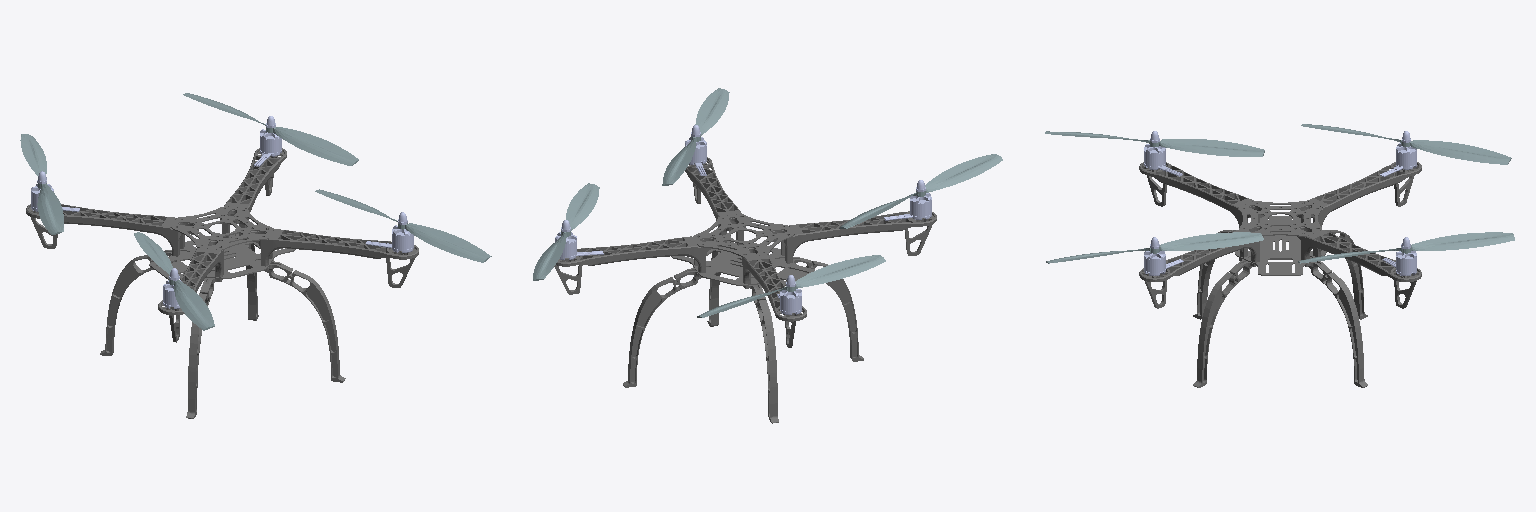
robot.urdf — drone:
<?xml version="1.0" encoding="utf-8"?>
<!-- This URDF was automatically created by SolidWorks to URDF Exporter! Originally created by [author] ([email redacted]) 
     Commit Version: 1.6.0-4-g7f85cfe  Build Version: 1.6.7995.38578
     For more information, please see http://wiki.ros.org/sw_urdf_exporter -->
<robot
  name="drone">
  <link
    name="base_link">
    <inertial>
      <origin
        xyz="-6.3212E-08 1.0539E-07 -0.026926"
        rpy="0 0 0" />
      <mass
        value="0.22736" />
      <inertia
        ixx="0.00051734"
        ixy="-1.9474E-10"
        ixz="-1.0163E-11"
        iyy="0.00054338"
        iyz="1.6895E-11"
        izz="0.00081393" />
    </inertial>
    <visual>
      <origin
        xyz="0 0 0"
        rpy="0 0 0" />
      <geometry>
        <mesh
          filename="package://drone/meshes/base_link.STL" />
      </geometry>
      <material
        name="">
        <color
          rgba="0.50196 0.50196 0.50196 1" />
      </material>
    </visual>
    <collision>
      <origin
        xyz="0 0 0"
        rpy="0 0 0" />
      <geometry>
        <mesh
          filename="package://drone/meshes/base_link.STL" />
      </geometry>
    </collision>
  </link>
  <link
    name="link_motor_front_right">
    <inertial>
      <origin
        xyz="0.0010075 -3.9076E-09 0.015546"
        rpy="0 0 0" />
      <mass
        value="0.13627" />
      <inertia
        ixx="1.329E-05"
        ixy="-5.3887E-14"
        ixz="-9.9406E-08"
        iyy="1.3437E-05"
        iyz="3.8342E-12"
        izz="1.168E-05" />
    </inertial>
    <visual>
      <origin
        xyz="0 0 0"
        rpy="0 0 0" />
      <geometry>
        <mesh
          filename="package://drone/meshes/link_motor_front_right.STL" />
      </geometry>
      <material
        name="">
        <color
          rgba="0.79216 0.81961 0.93333 1" />
      </material>
    </visual>
    <collision>
      <origin
        xyz="0 0 0"
        rpy="0 0 0" />
      <geometry>
        <mesh
          filename="package://drone/meshes/link_motor_front_right.STL" />
      </geometry>
    </collision>
  </link>
  <joint
    name="joint_motor_front_right"
    type="fixed">
    <origin
      xyz="0.16299 0.16299 0.00037705"
      rpy="0 0 -2.4843" />
    <parent
      link="base_link" />
    <child
      link="link_motor_front_right" />
  </joint>
  <link
    name="link_rotor_front_right">
    <inertial>
      <origin
        xyz="4.81133938246003E-10 7.6710804375324E-11 0.00428252145554474"
        rpy="0 0 0" />
      <mass
        value="0.0792353968915999" />
      <inertia
        ixx="2.5935724876401E-06"
        ixy="1.20862914748296E-05"
        ixz="-9.09337907217878E-14"
        iyy="0.000567464564116891"
        iyz="-1.39488669935456E-14"
        izz="0.000569676063472002" />
    </inertial>
    <visual>
      <origin
        xyz="0 0 0"
        rpy="0 0 0" />
      <geometry>
        <mesh
          filename="package://drone/meshes/link_rotor_front_right.STL" />
      </geometry>
      <material
        name="">
        <color
          rgba="0.592156862745098 0.666666666666667 0.682352941176471 1" />
      </material>
    </visual>
    <collision>
      <origin
        xyz="0 0 0"
        rpy="0 0 0" />
      <geometry>
        <mesh
          filename="package://drone/meshes/link_rotor_front_right.STL" />
      </geometry>
    </collision>
  </link>
  <joint
    name="joint_rotor_front_right"
    type="continuous">
    <origin
      xyz="0 0 0.029573"
      rpy="0 0 1.1957" />
    <parent
      link="link_motor_front_right" />
    <child
      link="link_rotor_front_right" />
    <axis
      xyz="0 0 1" />
  </joint>
  <link
    name="link_motor_front_left">
    <inertial>
      <origin
        xyz="0.0010075 -3.9076E-09 0.015546"
        rpy="0 0 0" />
      <mass
        value="0.13627" />
      <inertia
        ixx="1.329E-05"
        ixy="-5.3887E-14"
        ixz="-9.9406E-08"
        iyy="1.3437E-05"
        iyz="3.8342E-12"
        izz="1.168E-05" />
    </inertial>
    <visual>
      <origin
        xyz="0 0 0"
        rpy="0 0 0" />
      <geometry>
        <mesh
          filename="package://drone/meshes/link_motor_front_left.STL" />
      </geometry>
      <material
        name="">
        <color
          rgba="0.79216 0.81961 0.93333 1" />
      </material>
    </visual>
    <collision>
      <origin
        xyz="0 0 0"
        rpy="0 0 0" />
      <geometry>
        <mesh
          filename="package://drone/meshes/link_motor_front_left.STL" />
      </geometry>
    </collision>
  </link>
  <joint
    name="joint_motor_front_left"
    type="fixed">
    <origin
      xyz="-0.16299 0.16299 0.00037705"
      rpy="0 0 -0.74053" />
    <parent
      link="base_link" />
    <child
      link="link_motor_front_left" />
  </joint>
  <link
    name="link_rotor_front_left">
    <inertial>
      <origin
        xyz="4.81135152552437E-10 7.67108876420508E-11 0.00428252430867754"
        rpy="0 0 0" />
      <mass
        value="0.0792351821581544" />
      <inertia
        ixx="2.59357248764002E-06"
        ixy="1.20862914748295E-05"
        ixz="-9.0933750992924E-14"
        iyy="0.000567464564116888"
        iyz="-1.39488582612234E-14"
        izz="0.000569676063471999" />
    </inertial>
    <visual>
      <origin
        xyz="0 0 0"
        rpy="0 0 0" />
      <geometry>
        <mesh
          filename="package://drone/meshes/link_rotor_front_left.STL" />
      </geometry>
      <material
        name="">
        <color
          rgba="0.592156862745098 0.666666666666667 0.682352941176471 1" />
      </material>
    </visual>
    <collision>
      <origin
        xyz="0 0 0"
        rpy="0 0 0" />
      <geometry>
        <mesh
          filename="package://drone/meshes/link_rotor_front_left.STL" />
      </geometry>
    </collision>
  </link>
  <joint
    name="joint_rotor_front_left"
    type="continuous">
    <origin
      xyz="0 0 0.029573"
      rpy="0 0 -1.2207" />
    <parent
      link="link_motor_front_left" />
    <child
      link="link_rotor_front_left" />
    <axis
      xyz="0 0 1" />
  </joint>
  <link
    name="link_motor_rear_right">
    <inertial>
      <origin
        xyz="0.0010074998433014 -3.90756207946374E-09 0.0155460529897806"
        rpy="0 0 0" />
      <mass
        value="0.136265638019088" />
      <inertia
        ixx="1.32895448445532E-05"
        ixy="-5.38865259447981E-14"
        ixz="-9.94055138936586E-08"
        iyy="1.34373280396181E-05"
        iyz="3.83424096949605E-12"
        izz="1.16795382339127E-05" />
    </inertial>
    <visual>
      <origin
        xyz="0 0 0"
        rpy="0 0 0" />
      <geometry>
        <mesh
          filename="package://drone/meshes/link_motor_rear_right.STL" />
      </geometry>
      <material
        name="">
        <color
          rgba="0.792156862745098 0.819607843137255 0.933333333333333 1" />
      </material>
    </visual>
    <collision>
      <origin
        xyz="0 0 0"
        rpy="0 0 0" />
      <geometry>
        <mesh
          filename="package://drone/meshes/link_motor_rear_right.STL" />
      </geometry>
    </collision>
  </link>
  <joint
    name="joint_motor_rear_right"
    type="fixed">
    <origin
      xyz="0.16299 -0.16299 0.00037705"
      rpy="0 0 2.3138" />
    <parent
      link="base_link" />
    <child
      link="link_motor_rear_right" />
  </joint>
  <link
    name="link_rotor_rear_right">
    <inertial>
      <origin
        xyz="4.81133966001579E-10 7.67106378418703E-11 0.00428252145554474"
        rpy="0 0 0" />
      <mass
        value="0.0792353968916003" />
      <inertia
        ixx="2.59357248764002E-06"
        ixy="1.20862914748288E-05"
        ixz="-9.09336776816151E-14"
        iyy="0.000567464564116895"
        iyz="-1.39488613366009E-14"
        izz="0.000569676063472006" />
    </inertial>
    <visual>
      <origin
        xyz="0 0 0"
        rpy="0 0 0" />
      <geometry>
        <mesh
          filename="package://drone/meshes/link_rotor_rear_right.STL" />
      </geometry>
      <material
        name="">
        <color
          rgba="0.592156862745098 0.666666666666667 0.682352941176471 1" />
      </material>
    </visual>
    <collision>
      <origin
        xyz="0 0 0"
        rpy="0 0 0" />
      <geometry>
        <mesh
          filename="package://drone/meshes/link_rotor_rear_right.STL" />
      </geometry>
    </collision>
  </link>
  <joint
    name="joint_rotor_rear_right"
    type="continuous">
    <origin
      xyz="0 0 0.029573"
      rpy="0 0 2.6807" />
    <parent
      link="link_motor_rear_right" />
    <child
      link="link_rotor_rear_right" />
    <axis
      xyz="0 0 1" />
  </joint>
  <link
    name="link_motor_rear_left">
    <inertial>
      <origin
        xyz="0.00100749984330151 -3.90756083046284E-09 0.0155460529897806"
        rpy="0 0 0" />
      <mass
        value="0.136265638019088" />
      <inertia
        ixx="1.32895448445532E-05"
        ixy="-5.38865297564463E-14"
        ixz="-9.94055138936587E-08"
        iyy="1.34373280396181E-05"
        iyz="3.83424097510764E-12"
        izz="1.16795382339127E-05" />
    </inertial>
    <visual>
      <origin
        xyz="0 0 0"
        rpy="0 0 0" />
      <geometry>
        <mesh
          filename="package://drone/meshes/link_motor_rear_left.STL" />
      </geometry>
      <material
        name="">
        <color
          rgba="0.792156862745098 0.819607843137255 0.933333333333333 1" />
      </material>
    </visual>
    <collision>
      <origin
        xyz="0 0 0"
        rpy="0 0 0" />
      <geometry>
        <mesh
          filename="package://drone/meshes/link_motor_rear_left.STL" />
      </geometry>
    </collision>
  </link>
  <joint
    name="joint_motor_rear_left"
    type="fixed">
    <origin
      xyz="-0.16299 -0.16299 0.00037705"
      rpy="0 0 0.80477" />
    <parent
      link="base_link" />
    <child
      link="link_motor_rear_left" />
  </joint>
  <link
    name="link_rotor_rear_left">
    <inertial>
      <origin
        xyz="4.81136019914175E-10 7.67109153976264E-11 0.00428252430867752"
        rpy="0 0 0" />
      <mass
        value="0.0792351821581553" />
      <inertia
        ixx="2.59357248764013E-06"
        ixy="1.20862914748303E-05"
        ixz="-9.09336086659056E-14"
        iyy="0.000567464564116896"
        iyz="-1.39488676252485E-14"
        izz="0.000569676063472007" />
    </inertial>
    <visual>
      <origin
        xyz="0 0 0"
        rpy="0 0 0" />
      <geometry>
        <mesh
          filename="package://drone/meshes/link_rotor_rear_left.STL" />
      </geometry>
      <material
        name="">
        <color
          rgba="0.592156862745098 0.666666666666667 0.682352941176471 1" />
      </material>
    </visual>
    <collision>
      <origin
        xyz="0 0 0"
        rpy="0 0 0" />
      <geometry>
        <mesh
          filename="package://drone/meshes/link_rotor_rear_left.STL" />
      </geometry>
    </collision>
  </link>
  <joint
    name="joint_rotor_rear_left"
    type="continuous">
    <origin
      xyz="0 0 0.029573"
      rpy="0 0 0.54786" />
    <parent
      link="link_motor_rear_left" />
    <child
      link="link_rotor_rear_left" />
    <axis
      xyz="0 0 1" />
  </joint>
</robot>

--- Render facts (derived) ---
3 views of the same robot in one strip: view 1: azimuth 30°, elevation 25°; view 2: azimuth 150°, elevation 25°; view 3: azimuth 270°, elevation 25° (orthographic).
Robot: drone — 9 links, 8 joints (4 continuous, 4 fixed); root link base_link; default pose: all joints at 0.
Visible links, largest first — view 1: base_link, link_rotor_front_right, link_rotor_rear_right, link_rotor_rear_left, link_rotor_front_left, link_motor_rear_right, link_motor_front_right; view 2: base_link, link_rotor_front_left, link_rotor_rear_left, link_rotor_front_right, link_rotor_rear_right, link_motor_rear_left, link_motor_front_left, link_motor_front_right; view 3: base_link, link_rotor_front_right, link_rotor_rear_right, link_rotor_rear_left, link_rotor_front_left, link_motor_rear_left, link_motor_rear_right, link_motor_front_left, link_motor_front_right.
Boxes of the visible links, left/top/right/bottom form: base_link: left=26, top=148, right=418, bottom=418; link_rotor_front_right: left=183, top=93, right=358, bottom=165; link_rotor_rear_right: left=315, top=189, right=491, bottom=262; link_rotor_rear_left: left=134, top=232, right=214, bottom=330; link_rotor_front_left: left=20, top=134, right=63, bottom=234; link_motor_rear_right: left=366, top=212, right=413, bottom=252; link_motor_front_right: left=254, top=116, right=281, bottom=166; base_link: left=554, top=157, right=936, bottom=423; link_rotor_front_left: left=697, top=255, right=885, bottom=317; link_rotor_rear_left: left=839, top=154, right=1002, bottom=228; link_rotor_front_right: left=533, top=183, right=599, bottom=280; link_rotor_rear_right: left=662, top=88, right=729, bottom=185; link_motor_rear_left: left=884, top=180, right=931, bottom=220; link_motor_front_left: left=777, top=275, right=801, bottom=314; link_motor_front_right: left=555, top=220, right=603, bottom=259; base_link: left=1139, top=162, right=1421, bottom=387; link_rotor_front_right: left=1298, top=232, right=1514, bottom=263; link_rotor_rear_right: left=1046, top=232, right=1263, bottom=263; link_rotor_rear_left: left=1045, top=131, right=1264, bottom=156; link_rotor_front_left: left=1301, top=124, right=1511, bottom=164; link_motor_rear_left: left=1144, top=131, right=1182, bottom=176; link_motor_rear_right: left=1144, top=237, right=1183, bottom=275; link_motor_front_left: left=1380, top=131, right=1416, bottom=176; link_motor_front_right: left=1382, top=237, right=1416, bottom=275.
Size in the robot's own frame: 0.4354 by 0.6105 by 0.239 metres.
Meshes: 9 distinct files referenced, 9 mesh visuals loaded (9 binary STL).